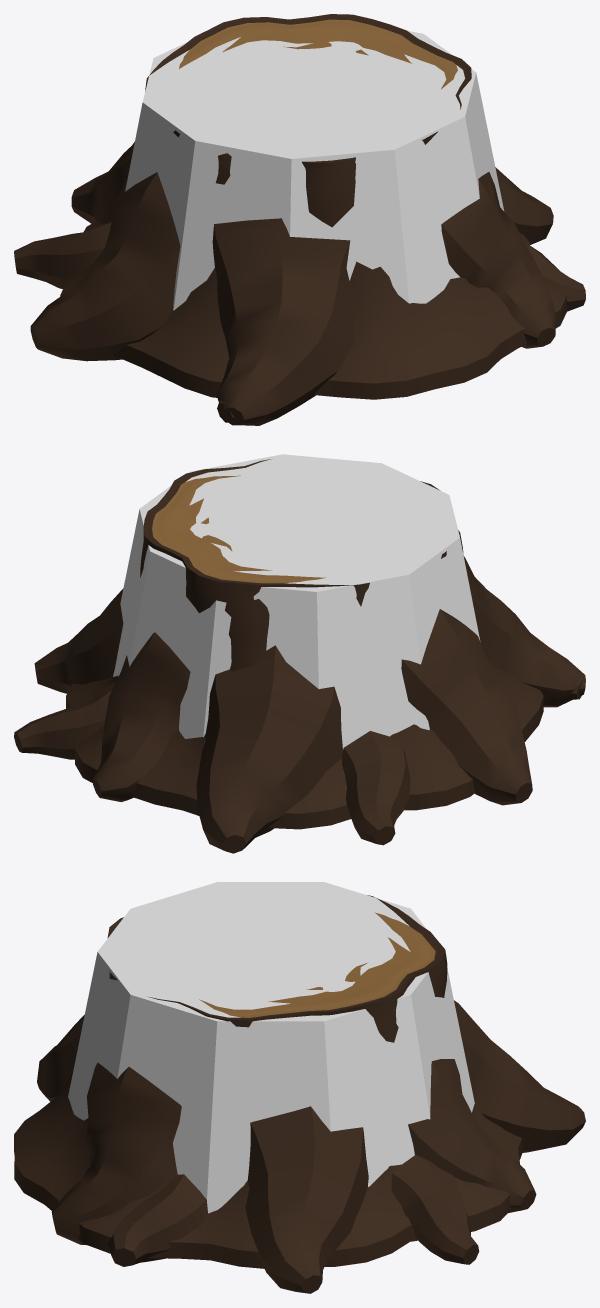
The model's file is Stump.fbx.
3 renders of one model, top to bottom at view 1: azimuth 30°, elevation 25°; view 2: azimuth 150°, elevation 25°; view 3: azimuth 270°, elevation 25°, orthographic. The views are drawn at different scales.
Visible parts, largest first — view 1: Stump_Body, COL_Stump; view 2: Stump_Body, COL_Stump; view 3: Stump_Body, COL_Stump.
Boxes of the visible parts, <box> form: Stump_Body: <box>14,14,585,425</box>; COL_Stump: <box>125,17,504,310</box>; Stump_Body: <box>14,459,585,853</box>; COL_Stump: <box>113,454,480,749</box>; Stump_Body: <box>14,895,585,1293</box>; COL_Stump: <box>68,882,474,1213</box>.
Size of the model in its own units: 1.67 by 0.7102 by 1.58.
